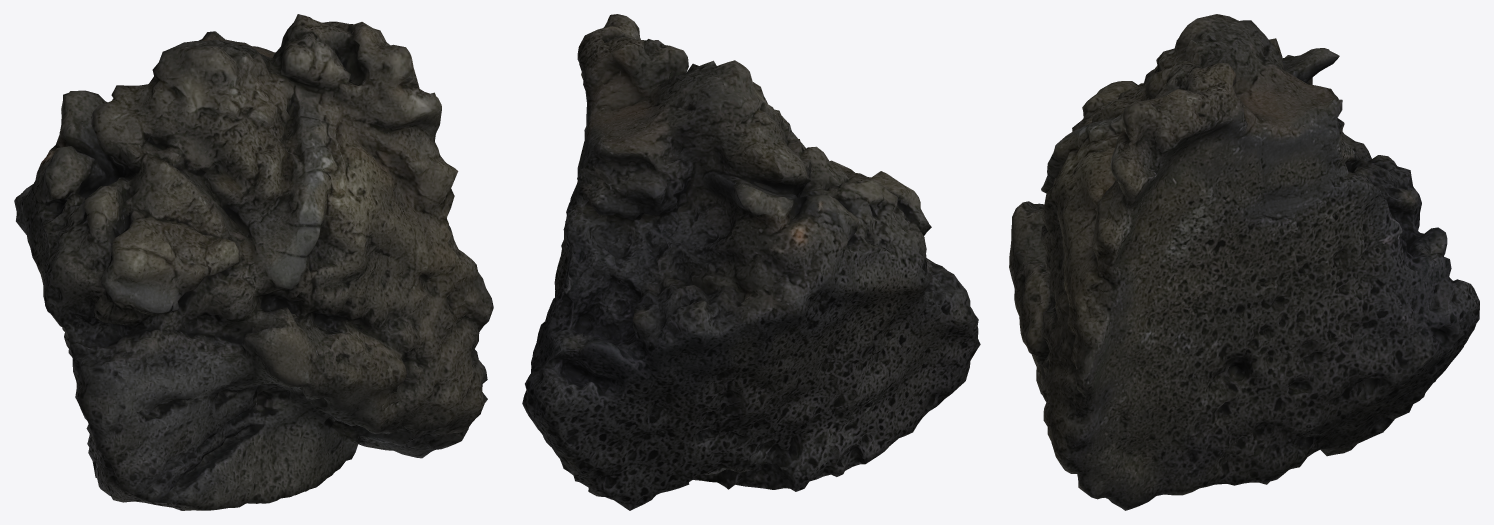
File: paricutin.obj
The picture shows the model from 3 angles, left to right: view 1: azimuth 30°, elevation 25°; view 2: azimuth 150°, elevation 25°; view 3: azimuth 270°, elevation 25°; orthographic projection. The views are drawn at different scales.
Visible parts, largest first — view 1: 9k; view 2: 9k; view 3: 9k.
Part boxes in pixels (left/top/right/bottom): 9k: left=14, top=14, right=493, bottom=510; 9k: left=522, top=14, right=980, bottom=510; 9k: left=1009, top=14, right=1479, bottom=510.
Bounding box in the file's own units: 0.7496 × 0.7347 × 0.7583.
1 material, 1 textured.
